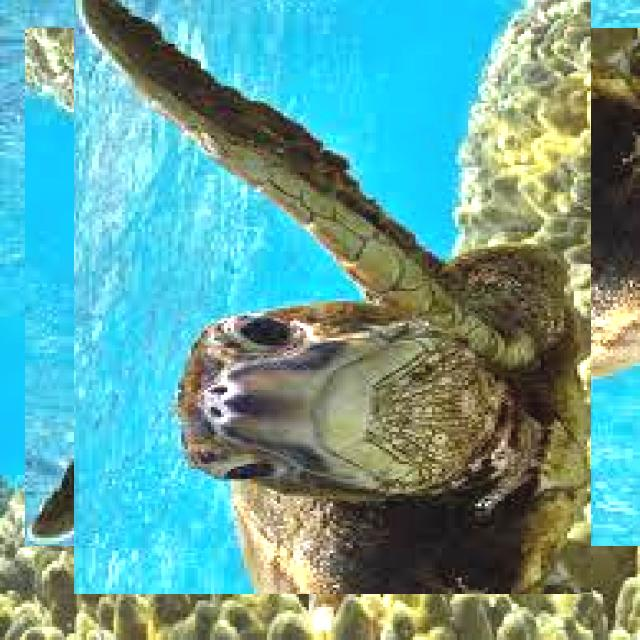Sea turtle: (49, 4, 616, 570)
